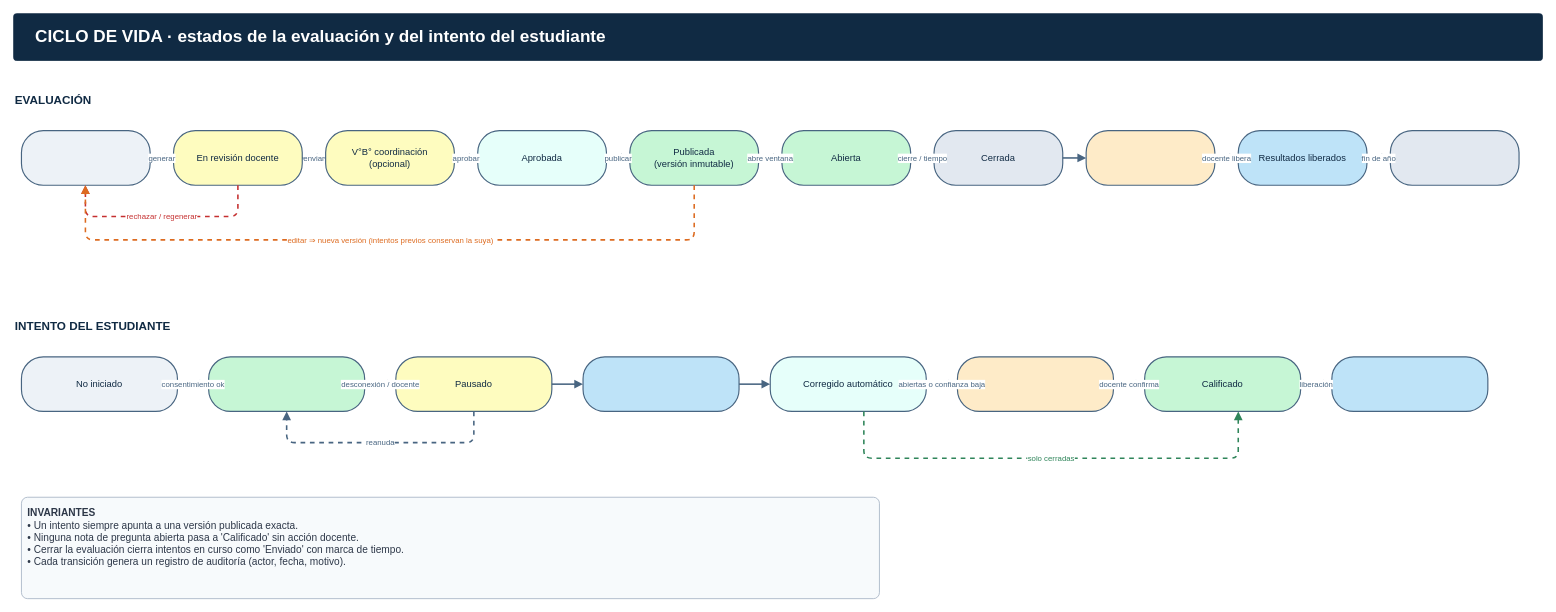
Image size: 1556x612. Some labels were removed from this diagram. The centre of each missing label's shape, as x and y in pixels:
"Archivada" goes at (1454,157).
"Borrador" goes at (85,157).
"En corrección" goes at (1150,157).
"En curso" goes at (286,384).
"Enviado" goes at (660,384).
"Feedback visible" goes at (1409,384).
"Revisión docente" goes at (1035,384).
